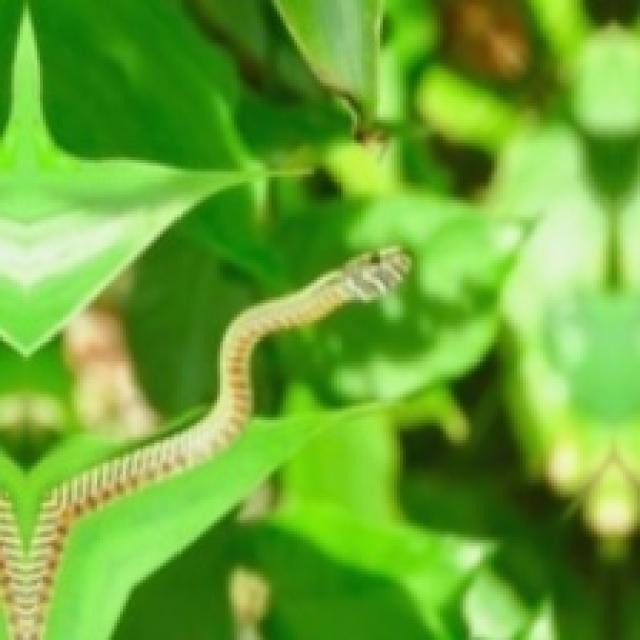paradise tree snake: (0, 246, 409, 637)
